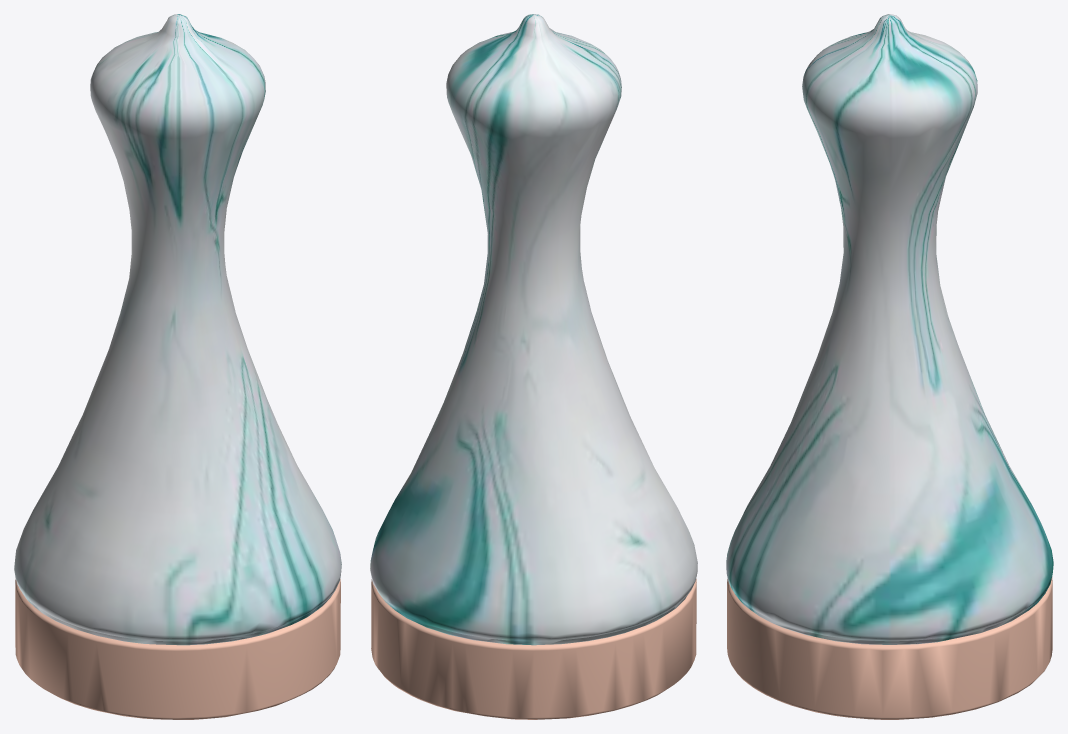
File: dama_bila.glb
3 renders of one model, left to right at view 1: azimuth 30°, elevation 25°; view 2: azimuth 150°, elevation 25°; view 3: azimuth 270°, elevation 25°, orthographic.
Parts seen in each view (by area): view 1: dama_bila; view 2: dama_bila; view 3: dama_bila.
Boxes of the visible parts, box(x1,y1,x2,y2) form: dama_bila: box(14, 14, 341, 719); dama_bila: box(370, 14, 697, 719); dama_bila: box(726, 14, 1053, 719).
Size of the model in its own units: 0.0584 by 0.1253 by 0.0583.
2 materials, 1 textured.
